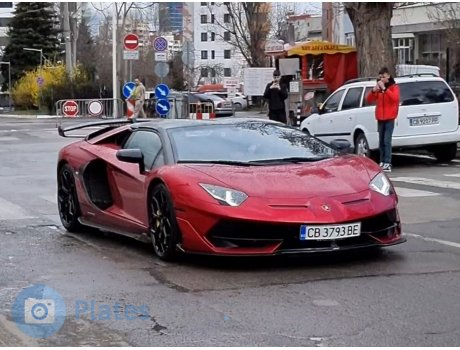registration_plate: (299, 222, 362, 242), (409, 115, 441, 128)
